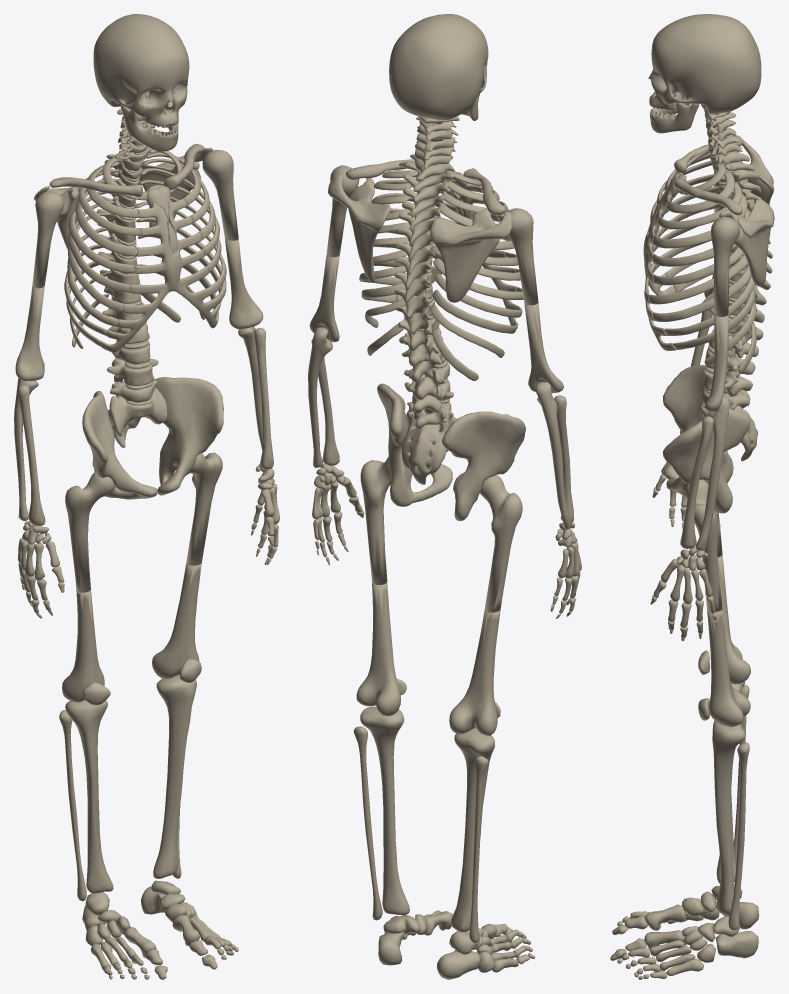
Rendered from pediatric_adolescent_female.skeletal.LOD0.glb.
3 views of the same model, side by side, from view 1: azimuth 30°, elevation 25°; view 2: azimuth 150°, elevation 25°; view 3: azimuth 270°, elevation 25° (orthographic). The views are drawn at different scales.
Visible parts, largest first — view 1: PEDIATRIC.ADOLESCENT.FEMALE.SKELETAL.RIBS_CORTICAL, PEDIATRIC.ADOLESCENT.FEMALE.SKELETAL.CRANIUM_CORTICAL, PEDIATRIC.ADOLESCENT.FEMALE.SKELETAL.PELVIS_CORTICAL, PEDIATRIC.ADOLESCENT.FEMALE.SKELETAL.TIBIAE_CORTICAL, PEDIATRIC.ADOLESCENT.FEMALE.SKELETAL.CARTILAGE_TRUNK, PEDIATRIC.ADOLESCENT.FEMALE.SKELETAL.ANKLES_AND_FOOT_CORTICA, PEDIATRIC.ADOLESCENT.FEMALE.SKELETAL.FEMORA_LOWER_CORTICAL, PEDIATRIC.ADOLESCENT.FEMALE.SKELETAL.FEMORA_UPPER_CORTICAL, PEDIATRIC.ADOLESCENT.FEMALE.SKELETAL.WRISTS_AND_HAND_BONES_C, PEDIATRIC.ADOLESCENT.FEMALE.SKELETAL.HUMERI_UPPER_CORTICAL, PEDIATRIC.ADOLESCENT.FEMALE.SKELETAL.HUMERI_LOWER_CORTICAL, PEDIATRIC.ADOLESCENT.FEMALE.SKELETAL.RADII_CORTICAL (+11 smaller); view 2: PEDIATRIC.ADOLESCENT.FEMALE.SKELETAL.RIBS_CORTICAL, PEDIATRIC.ADOLESCENT.FEMALE.SKELETAL.CRANIUM_CORTICAL, PEDIATRIC.ADOLESCENT.FEMALE.SKELETAL.PELVIS_CORTICAL, PEDIATRIC.ADOLESCENT.FEMALE.SKELETAL.TIBIAE_CORTICAL, PEDIATRIC.ADOLESCENT.FEMALE.SKELETAL.SCAPULAE_CORTICAL, PEDIATRIC.ADOLESCENT.FEMALE.SKELETAL.FEMORA_LOWER_CORTICAL, PEDIATRIC.ADOLESCENT.FEMALE.SKELETAL.THORACIC_SPINE_CORTICAL, PEDIATRIC.ADOLESCENT.FEMALE.SKELETAL.FEMORA_UPPER_CORTICAL, PEDIATRIC.ADOLESCENT.FEMALE.SKELETAL.ANKLES_AND_FOOT_CORTICA, PEDIATRIC.ADOLESCENT.FEMALE.SKELETAL.WRISTS_AND_HAND_BONES_C, PEDIATRIC.ADOLESCENT.FEMALE.SKELETAL.LUMBAR_SPINE_CORTICAL, PEDIATRIC.ADOLESCENT.FEMALE.SKELETAL.ULNAE_CORTICAL (+8 smaller); view 3: PEDIATRIC.ADOLESCENT.FEMALE.SKELETAL.RIBS_CORTICAL, PEDIATRIC.ADOLESCENT.FEMALE.SKELETAL.CRANIUM_CORTICAL, PEDIATRIC.ADOLESCENT.FEMALE.SKELETAL.ANKLES_AND_FOOT_CORTICA, PEDIATRIC.ADOLESCENT.FEMALE.SKELETAL.PELVIS_CORTICAL, PEDIATRIC.ADOLESCENT.FEMALE.SKELETAL.FEMORA_LOWER_CORTICAL, PEDIATRIC.ADOLESCENT.FEMALE.SKELETAL.TIBIAE_CORTICAL, PEDIATRIC.ADOLESCENT.FEMALE.SKELETAL.WRISTS_AND_HAND_BONES_C, PEDIATRIC.ADOLESCENT.FEMALE.SKELETAL.SCAPULAE_CORTICAL, PEDIATRIC.ADOLESCENT.FEMALE.SKELETAL.LUMBAR_SPINE_CORTICAL, PEDIATRIC.ADOLESCENT.FEMALE.SKELETAL.CARTILAGE_TRUNK, PEDIATRIC.ADOLESCENT.FEMALE.SKELETAL.FIBULAE_CORTICAL, PEDIATRIC.ADOLESCENT.FEMALE.SKELETAL.HUMERI_UPPER_CORTICAL (+10 smaller).
Boxes of the visible parts, box(x1,y1,x2,y2) form: PEDIATRIC.ADOLESCENT.FEMALE.SKELETAL.RIBS_CORTICAL: box(64, 149, 226, 348); PEDIATRIC.ADOLESCENT.FEMALE.SKELETAL.CRANIUM_CORTICAL: box(93, 14, 189, 127); PEDIATRIC.ADOLESCENT.FEMALE.SKELETAL.PELVIS_CORTICAL: box(82, 377, 223, 499); PEDIATRIC.ADOLESCENT.FEMALE.SKELETAL.TIBIAE_CORTICAL: box(65, 675, 196, 893); PEDIATRIC.ADOLESCENT.FEMALE.SKELETAL.CARTILAGE_TRUNK: box(100, 120, 221, 405); PEDIATRIC.ADOLESCENT.FEMALE.SKELETAL.ANKLES_AND_FOOT_CORTICA: box(82, 880, 238, 979); PEDIATRIC.ADOLESCENT.FEMALE.SKELETAL.FEMORA_LOWER_CORTICAL: box(62, 563, 201, 702); PEDIATRIC.ADOLESCENT.FEMALE.SKELETAL.FEMORA_UPPER_CORTICAL: box(65, 452, 222, 592); PEDIATRIC.ADOLESCENT.FEMALE.SKELETAL.WRISTS_AND_HAND_BONES_C: box(17, 463, 279, 618); PEDIATRIC.ADOLESCENT.FEMALE.SKELETAL.HUMERI_UPPER_CORTICAL: box(32, 150, 238, 288); PEDIATRIC.ADOLESCENT.FEMALE.SKELETAL.HUMERI_LOWER_CORTICAL: box(15, 239, 263, 381); PEDIATRIC.ADOLESCENT.FEMALE.SKELETAL.RADII_CORTICAL: box(18, 328, 273, 525); PEDIATRIC.ADOLESCENT.FEMALE.SKELETAL.RIBS_CORTICAL: box(359, 161, 523, 380); PEDIATRIC.ADOLESCENT.FEMALE.SKELETAL.CRANIUM_CORTICAL: box(389, 14, 488, 120); PEDIATRIC.ADOLESCENT.FEMALE.SKELETAL.PELVIS_CORTICAL: box(377, 383, 525, 520); PEDIATRIC.ADOLESCENT.FEMALE.SKELETAL.TIBIAE_CORTICAL: box(360, 706, 494, 931); PEDIATRIC.ADOLESCENT.FEMALE.SKELETAL.SCAPULAE_CORTICAL: box(328, 174, 511, 302); PEDIATRIC.ADOLESCENT.FEMALE.SKELETAL.FEMORA_LOWER_CORTICAL: box(356, 582, 500, 735); PEDIATRIC.ADOLESCENT.FEMALE.SKELETAL.THORACIC_SPINE_CORTICAL: box(394, 161, 454, 350); PEDIATRIC.ADOLESCENT.FEMALE.SKELETAL.FEMORA_UPPER_CORTICAL: box(360, 456, 522, 612); PEDIATRIC.ADOLESCENT.FEMALE.SKELETAL.ANKLES_AND_FOOT_CORTICA: box(378, 910, 535, 979); PEDIATRIC.ADOLESCENT.FEMALE.SKELETAL.WRISTS_AND_HAND_BONES_C: box(312, 464, 581, 618); PEDIATRIC.ADOLESCENT.FEMALE.SKELETAL.LUMBAR_SPINE_CORTICAL: box(399, 328, 453, 428); PEDIATRIC.ADOLESCENT.FEMALE.SKELETAL.ULNAE_CORTICAL: box(308, 327, 571, 529); PEDIATRIC.ADOLESCENT.FEMALE.SKELETAL.RIBS_CORTICAL: box(649, 149, 756, 373); PEDIATRIC.ADOLESCENT.FEMALE.SKELETAL.CRANIUM_CORTICAL: box(648, 14, 761, 113); PEDIATRIC.ADOLESCENT.FEMALE.SKELETAL.ANKLES_AND_FOOT_CORTICA: box(610, 883, 759, 979); PEDIATRIC.ADOLESCENT.FEMALE.SKELETAL.PELVIS_CORTICAL: box(663, 364, 750, 513); PEDIATRIC.ADOLESCENT.FEMALE.SKELETAL.FEMORA_LOWER_CORTICAL: box(707, 555, 750, 727); PEDIATRIC.ADOLESCENT.FEMALE.SKELETAL.TIBIAE_CORTICAL: box(712, 681, 745, 915); PEDIATRIC.ADOLESCENT.FEMALE.SKELETAL.WRISTS_AND_HAND_BONES_C: box(650, 462, 716, 641); PEDIATRIC.ADOLESCENT.FEMALE.SKELETAL.SCAPULAE_CORTICAL: box(719, 139, 774, 285); PEDIATRIC.ADOLESCENT.FEMALE.SKELETAL.LUMBAR_SPINE_CORTICAL: box(701, 316, 763, 409); PEDIATRIC.ADOLESCENT.FEMALE.SKELETAL.CARTILAGE_TRUNK: box(643, 119, 745, 408); PEDIATRIC.ADOLESCENT.FEMALE.SKELETAL.FIBULAE_CORTICAL: box(728, 685, 749, 930); PEDIATRIC.ADOLESCENT.FEMALE.SKELETAL.HUMERI_UPPER_CORTICAL: box(711, 135, 739, 316).
Bounding box in the file's own units: 0.4578 × 1.6 × 0.2554.
